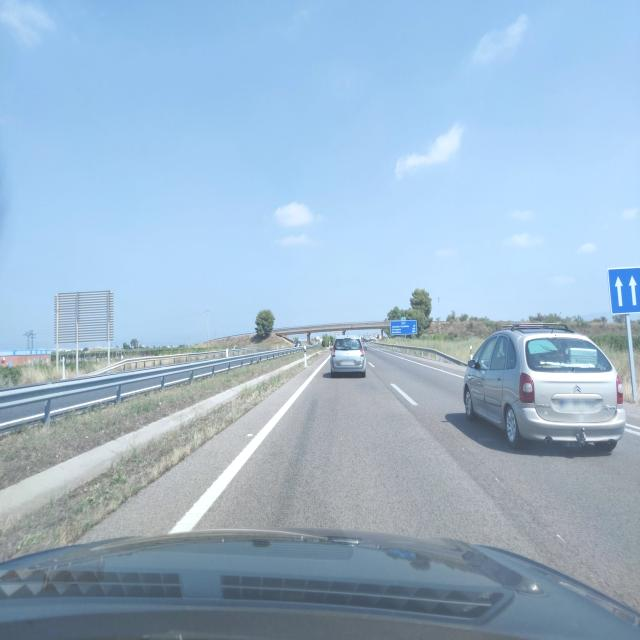car: (462, 322, 626, 451), (329, 335, 367, 378)
